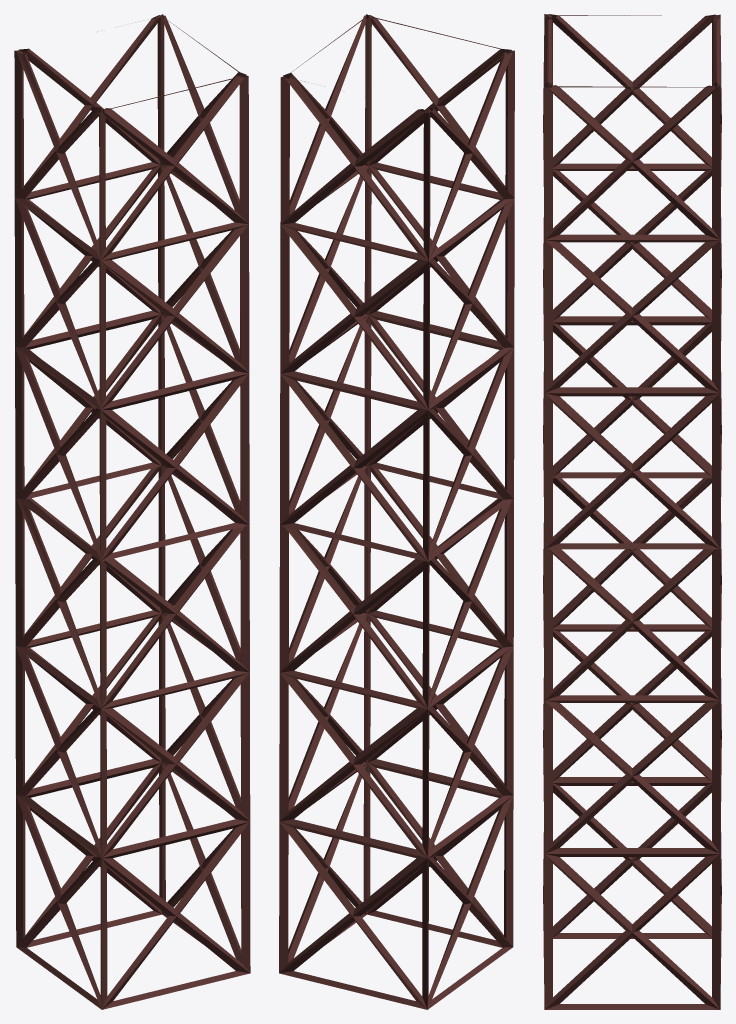
The model's file is straight_scaffold.glb.
3 renders of one model, left to right at view 1: azimuth 30°, elevation 25°; view 2: azimuth 150°, elevation 25°; view 3: azimuth 270°, elevation 25°, orthographic. The views are drawn at different scales.
Visible parts, largest first — view 1: scaffold.002, scaffold.001; view 2: scaffold.002, scaffold.001; view 3: scaffold.002, scaffold.001.
Part boxes in pixels (box(x1,y1,x2,y2)): scaffold.002: box(14, 14, 249, 561); scaffold.001: box(15, 466, 250, 1009); scaffold.002: box(280, 14, 514, 561); scaffold.001: box(279, 466, 513, 1009); scaffold.002: box(543, 14, 721, 549); scaffold.001: box(543, 477, 721, 1009).
Size of the model in its own units: 2.14 by 12.03 by 2.12.
